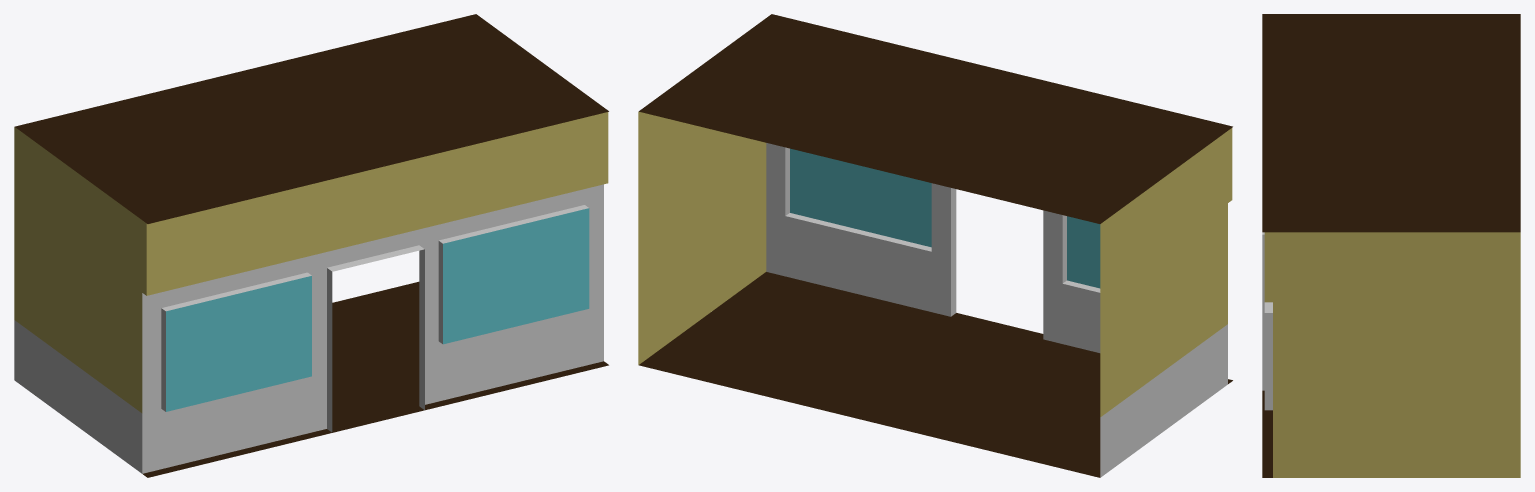
File: SM_IntShopEntrywayCorns.fbx
3 views of the same model, side by side, from view 1: azimuth 30°, elevation 25°; view 2: azimuth 150°, elevation 25°; view 3: azimuth 270°, elevation 25° (orthographic). The views are drawn at different scales.
Parts seen in each view (by area): view 1: Box103, Plane021, Plane020; view 2: Box103, Plane021, Plane020; view 3: Box103, Plane021, Plane020.
Part boxes in pixels (left/top/right/bottom): Box103: left=14, top=112, right=608, bottom=473; Plane021: left=15, top=14, right=608, bottom=223; Plane020: left=143, top=281, right=608, bottom=477; Box103: left=638, top=111, right=1232, bottom=477; Plane021: left=639, top=14, right=1232, bottom=223; Plane020: left=639, top=272, right=1232, bottom=477; Box103: left=1262, top=232, right=1520, bottom=477; Plane021: left=1262, top=14, right=1520, bottom=232; Plane020: left=1262, top=390, right=1272, bottom=477.
Size of the model in its own units: 600 by 315 by 300.
